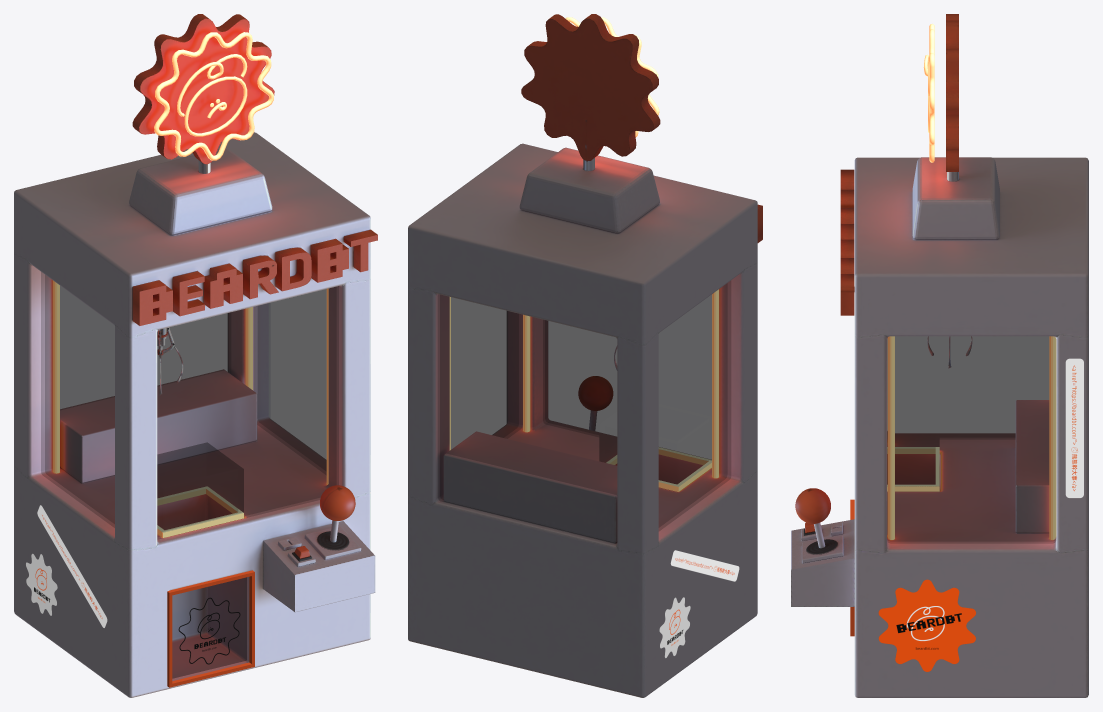
Rendered from claw.glb.
The picture shows the model from 3 angles, left to right: view 1: azimuth 30°, elevation 25°; view 2: azimuth 150°, elevation 25°; view 3: azimuth 270°, elevation 25°; orthographic projection. The views are drawn at different scales.
Parts seen in each view (by area): view 1: Backed, Cube.016, Cube.012, Cube.014, Cube.015, 擋版, Cube.017, Curve.002, Cube.003, Curve.004, Cylinder.005, Plane.008 (+5 smaller); view 2: Backed, Cube.015, Cube.012, Cube.016, Cube.014, 擋版, Cylinder.004, Plane.008, Plane.009, Cylinder.003, 擋版.001; view 3: Backed, Cube.014, Cube.012, Plane.007, 擋版, Plane.001, Cylinder.003, Cylinder.002, Curve.002, 擋版.001.
Boxes of the visible parts, x1,y1,x2,y2 form: Backed: (14, 14, 377, 697); Cube.016: (157, 286, 338, 538); Cube.012: (41, 272, 114, 527); Cube.014: (257, 289, 326, 470); Cube.015: (60, 286, 228, 409); 擋版: (157, 443, 243, 531); Cube.017: (172, 577, 246, 678); Curve.002: (154, 32, 273, 160); Cube.003: (167, 570, 254, 687); Curve.004: (177, 54, 247, 136); Cylinder.005: (53, 280, 59, 473); Plane.008: (25, 553, 57, 615); Backed: (408, 14, 762, 697); Cube.015: (438, 294, 616, 543); Cube.012: (659, 281, 730, 530); Cube.016: (545, 295, 711, 434); Cube.014: (451, 297, 518, 448); 擋版: (599, 412, 708, 484); Cylinder.004: (712, 289, 718, 478); Plane.008: (659, 597, 690, 658); Plane.009: (670, 550, 739, 581); Cylinder.003: (523, 315, 530, 432); 擋版.001: (606, 447, 711, 491); Backed: (791, 14, 1088, 697); Cube.014: (887, 336, 1055, 542); Cube.012: (887, 336, 1048, 437); Plane.007: (878, 579, 975, 671); 擋版: (887, 403, 939, 484); Plane.001: (1065, 358, 1083, 498); Cylinder.003: (887, 336, 894, 539); Cylinder.002: (1049, 336, 1056, 539); Curve.002: (929, 24, 934, 162); 擋版.001: (887, 447, 939, 490).
Bounding box in the file's own units: 2.02 × 4.87 × 2.13.
Materials: 5 (2 with a texture image).
